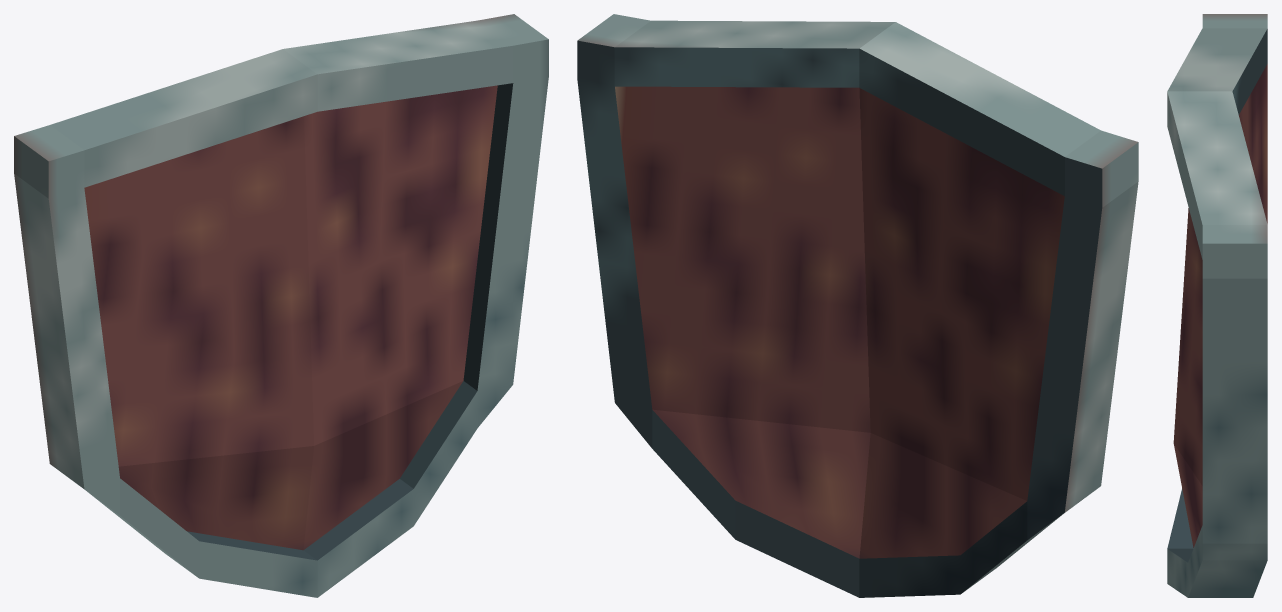
File: Shield.fbx
The picture shows the model from 3 angles, left to right: view 1: azimuth 30°, elevation 25°; view 2: azimuth 150°, elevation 25°; view 3: azimuth 270°, elevation 25°; orthographic projection. The views are drawn at different scales.
Visible parts, largest first — view 1: Cube.012; view 2: Cube.012; view 3: Cube.012.
Boxes of the visible parts, <box> form: Cube.012: <box>14,14,548,597</box>; Cube.012: <box>577,14,1138,597</box>; Cube.012: <box>1167,14,1267,597</box>.
Bounding box in the file's own units: 0.8748 × 0.1616 × 0.875.
